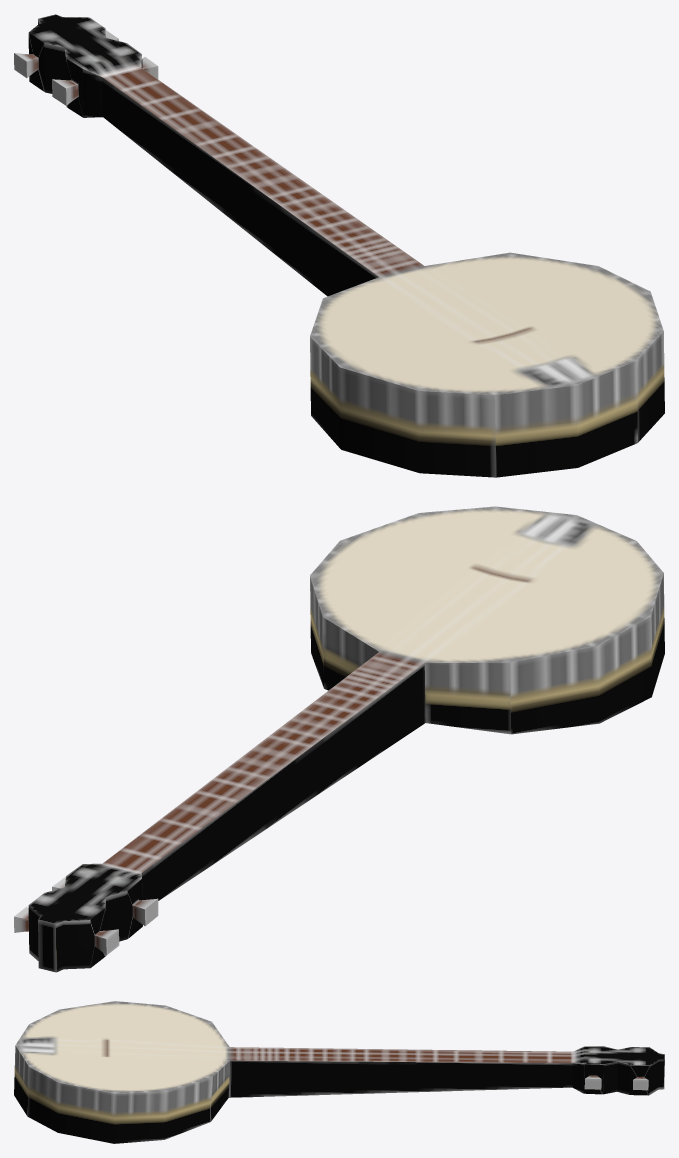
File: guitarra-1.obj
3 renders of one model, top to bottom at view 1: azimuth 30°, elevation 25°; view 2: azimuth 150°, elevation 25°; view 3: azimuth 270°, elevation 25°, orthographic. The views are drawn at different scales.
Parts seen in each view (by area): view 1: g1_pCube6; view 2: g1_pCube6; view 3: g1_pCube6.
Boxes of the visible parts, x1=… form: g1_pCube6: x1=14, y1=14, x2=664, y2=477; g1_pCube6: x1=14, y1=506, x2=664, y2=972; g1_pCube6: x1=14, y1=1001, x2=664, y2=1143.
Bounding box in the file's own units: 4.53 × 1.19 × 13.41.
1 material, 1 textured.
